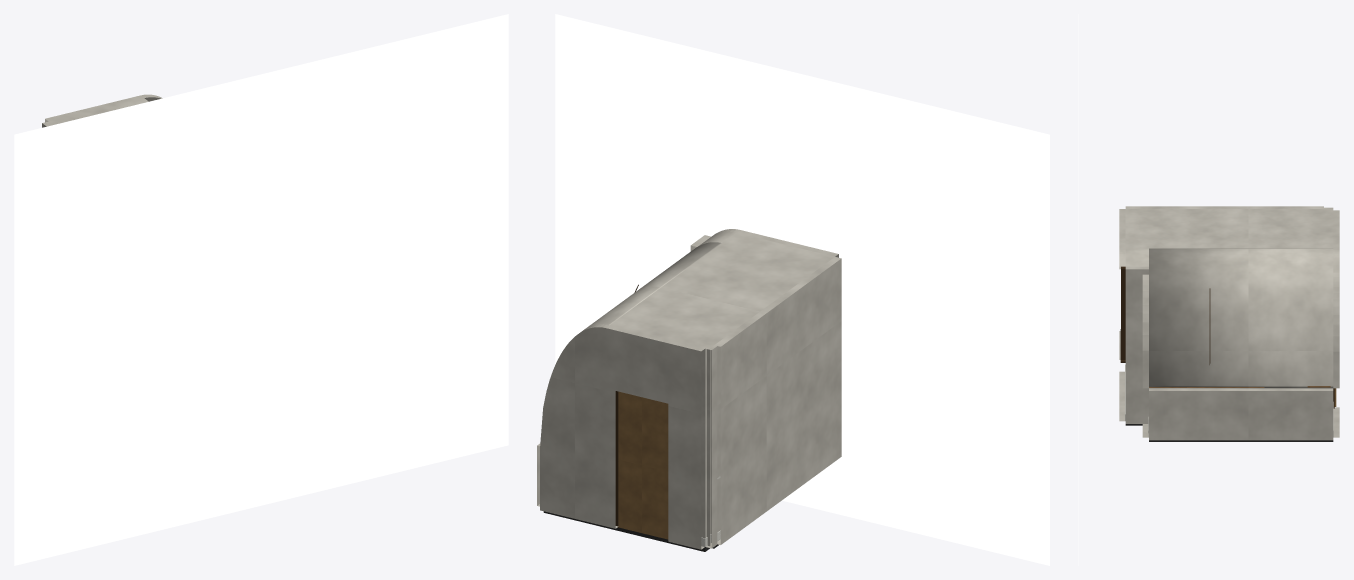
Rendered from current.glb.
The picture shows the model from 3 angles, left to right: view 1: azimuth 30°, elevation 25°; view 2: azimuth 150°, elevation 25°; view 3: azimuth 270°, elevation 25°; orthographic projection. The views are drawn at different scales.
Parts seen in each view (by area): view 1: Soft exterior beyond window.001; view 2: Soft exterior beyond window.001, Wall segment 7.002, Entrance wall right.002, Flat upper ceiling.002, Entrance wall left.002, Timber entrance leaf.002, Door lintel.002, Wall segment 5.002, Curved kitchen wall continuous sweep.002, Wall segment 6.002; view 3: Curved kitchen wall continuous sweep.002, Kitchen side knee wall.002, Flat upper ceiling.002, Wall segment 1.002, Entrance wall right.002, Wall segment 2.002, Wall segment 7.002, Soft exterior beyond window.001, Curve above window return.002, Window jamb.005, Floor slab 100 x 133 inches.002.
Boxes of the visible parts, <box> form: Soft exterior beyond window.001: <box>14,14,508,565</box>; Soft exterior beyond window.001: <box>555,14,1049,565</box>; Wall segment 7.002: <box>714,257,841,544</box>; Entrance wall right.002: <box>540,324,618,528</box>; Flat upper ceiling.002: <box>610,232,834,348</box>; Entrance wall left.002: <box>668,340,705,549</box>; Timber entrance leaf.002: <box>618,391,668,539</box>; Door lintel.002: <box>615,327,671,403</box>; Wall segment 5.002: <box>705,345,717,548</box>; Curved kitchen wall continuous sweep.002: <box>584,242,721,329</box>; Wall segment 6.002: <box>707,344,712,546</box>; Curved kitchen wall continuous sweep.002: <box>1149,248,1333,388</box>; Kitchen side knee wall.002: <box>1149,388,1333,440</box>; Flat upper ceiling.002: <box>1125,209,1333,248</box>; Wall segment 1.002: <box>1125,266,1148,423</box>; Entrance wall right.002: <box>1333,244,1339,437</box>; Wall segment 2.002: <box>1142,274,1148,437</box>; Wall segment 7.002: <box>1125,206,1323,208</box>; Soft exterior beyond window.001: <box>1078,14,1078,565</box>; Curve above window return.002: <box>1125,248,1148,266</box>; Window jamb.005: <box>1121,269,1125,359</box>; Floor slab 100 x 133 inches.002: <box>1125,424,1333,441</box>.
Size of the model in its own units: 7.62 by 6.35 by 4.24.
15 materials, 4 textured.
